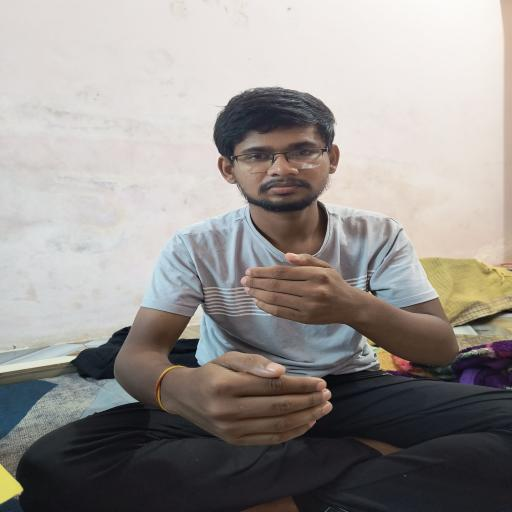Good: (168, 231, 372, 474)
